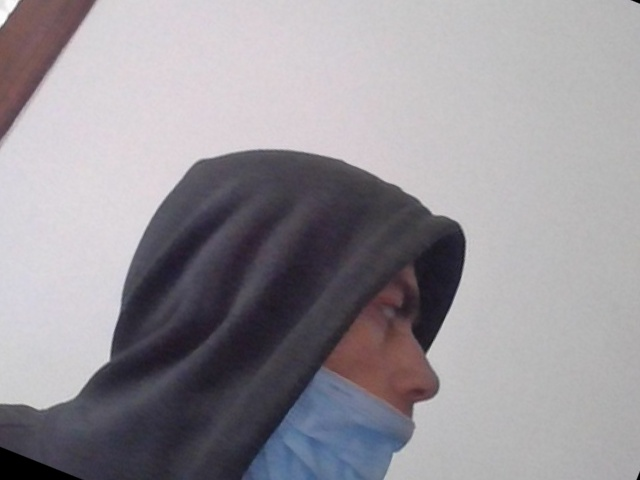mask_weared_incorrect: (263, 230, 468, 480)
